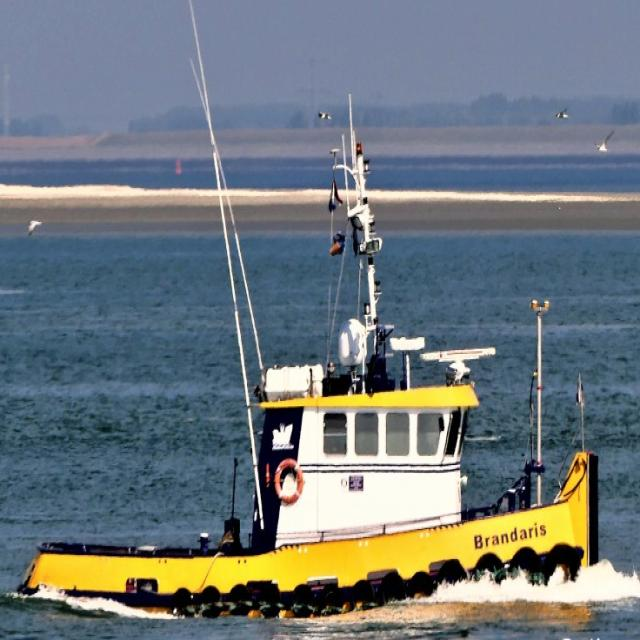tugboat: (14, 197, 603, 632)
